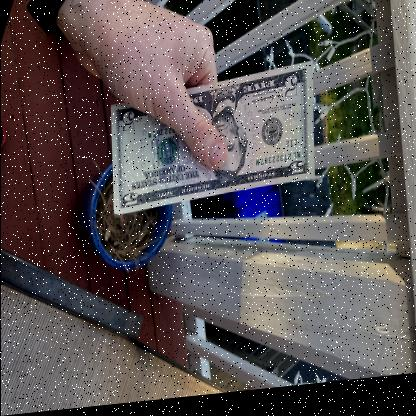five-front: (107, 62, 317, 228)
